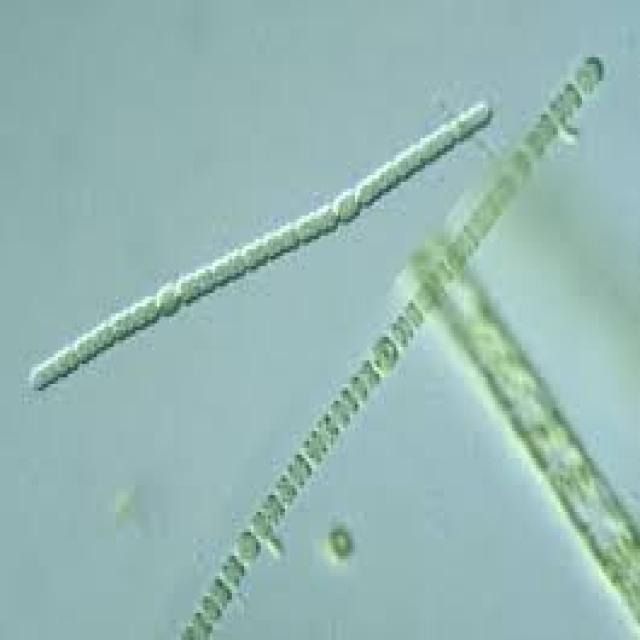Blue Green Algae: (285, 455, 316, 488), (205, 579, 237, 610), (220, 552, 246, 590), (357, 357, 384, 391), (304, 428, 328, 465), (261, 492, 285, 525), (276, 478, 300, 509), (241, 239, 261, 273), (212, 253, 232, 286), (135, 290, 155, 323), (278, 222, 299, 253), (249, 512, 273, 539), (348, 374, 369, 404), (355, 178, 374, 209), (316, 205, 336, 232), (179, 273, 198, 300), (297, 212, 316, 239), (198, 263, 215, 293)
